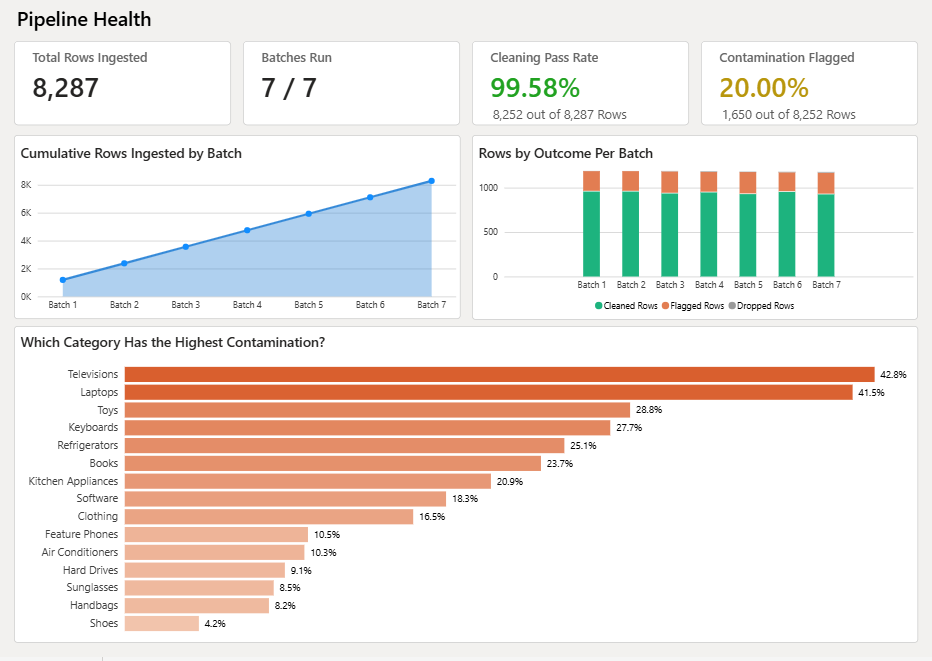

The dashboard page shown, as its layout file describes it:
{"tool":"powerbi","page":{"name":"Page 1","canvas":[1280,900],"ordinal":0},"visuals":[{"type":"cardVisual","fields":{"Data":["_Measure.Format total rows"]},"box":[29.5,60.3,235,100],"z":0},{"type":"cardVisual","fields":{"Data":["_Measure.Cleaning Pass Rate"]},"box":[689,60.2,235,100],"z":1000},{"type":"cardVisual","fields":{"Data":["_Measure.Batches Label"]},"box":[359.2,60.2,235,100],"z":2000},{"type":"cardVisual","fields":{"Data":["_Measure.Contamination Flag Rate"]},"box":[1013.6,60.4,240,100],"z":3000},{"type":"areaChart","title":"Cumulative Rows Ingested by Batch ","fields":{"Category":["public pipeline_run_log.Batch Label"],"Y":["_Measure.Cumulative Rows Ingested"]},"box":[30.2,174,610.7,259.2],"z":4000},{"type":"columnChart","title":"Rows by Outcome Per Batch","fields":{"Category":["public pipeline_run_log.Batch Label"],"Y":["_Measure.Clean Not Flagged","_Measure.Flagged Rows","_Measure.Dropped Rows"]},"box":[662,174.3,591,259.4],"z":5000},{"type":"clusteredBarChart","title":"Which Category Has the Highest Contamination?","fields":{"Category":["public clean_products.category_normalized"],"Y":["_Measure.Flag Rate by Category"]},"box":[30.2,447.3,1223.1,433.1],"z":6000},{"type":"shape","box":[19.1,4.4,224.6,48.4],"z":7000}]}

Visuals, with their boxes in screenshot pixels (x1, y1, x2, y2), scaled from the page's 1280x900 canvas onto the 932x661 screenshot:
cardVisual - _Measure.Format total rows: {"left": 21, "top": 44, "right": 193, "bottom": 118}
cardVisual - _Measure.Cleaning Pass Rate: {"left": 502, "top": 44, "right": 673, "bottom": 118}
cardVisual - _Measure.Batches Label: {"left": 262, "top": 44, "right": 433, "bottom": 118}
cardVisual - _Measure.Contamination Flag Rate: {"left": 738, "top": 44, "right": 913, "bottom": 118}
"Cumulative Rows Ingested by Batch " areaChart: {"left": 22, "top": 128, "right": 467, "bottom": 318}
"Rows by Outcome Per Batch" columnChart: {"left": 482, "top": 128, "right": 912, "bottom": 319}
"Which Category Has the Highest Contamination?" clusteredBarChart: {"left": 22, "top": 329, "right": 913, "bottom": 647}
shape: {"left": 14, "top": 3, "right": 177, "bottom": 39}
